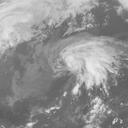cyclone: (59, 35, 122, 87)
